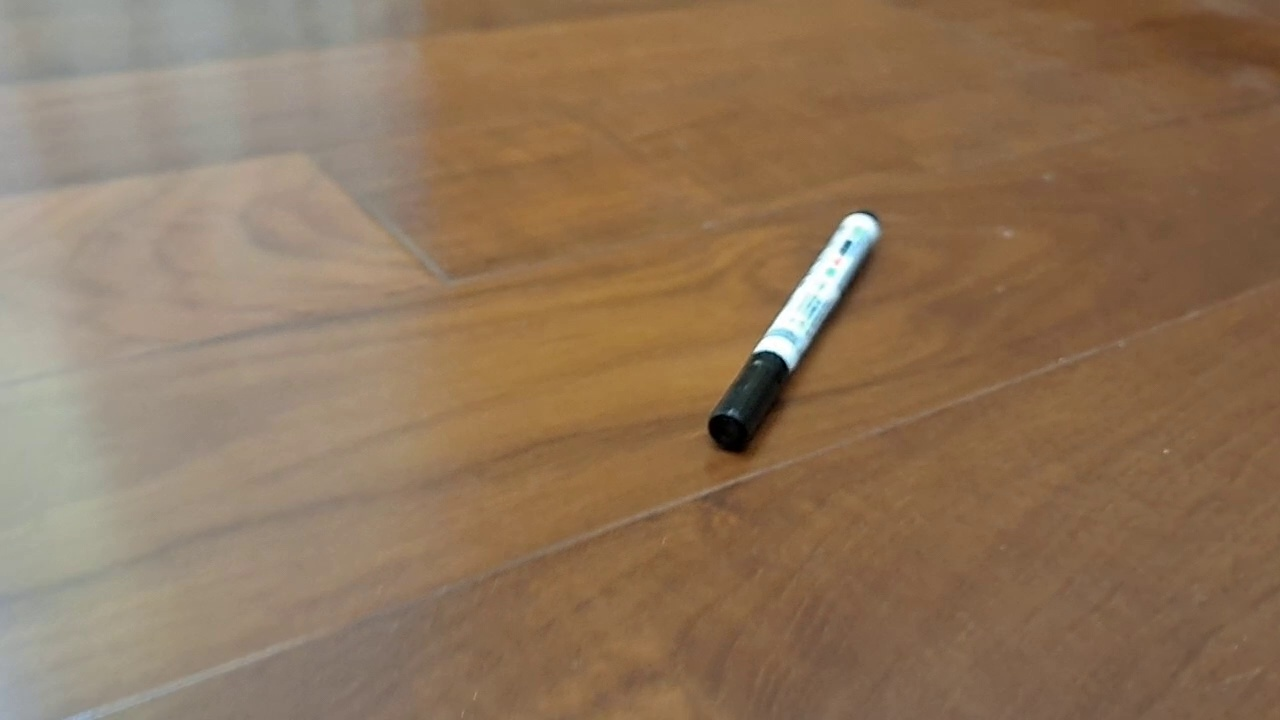pen: (708, 210, 883, 454)
